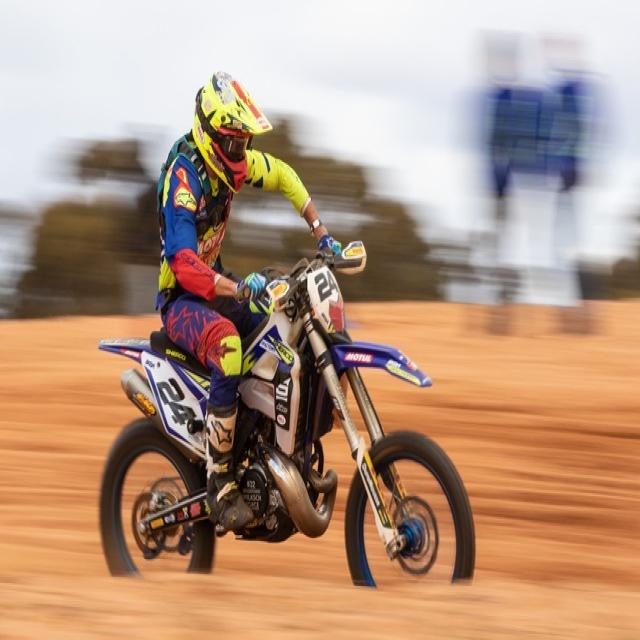illegal_helmet: (191, 66, 276, 202)
